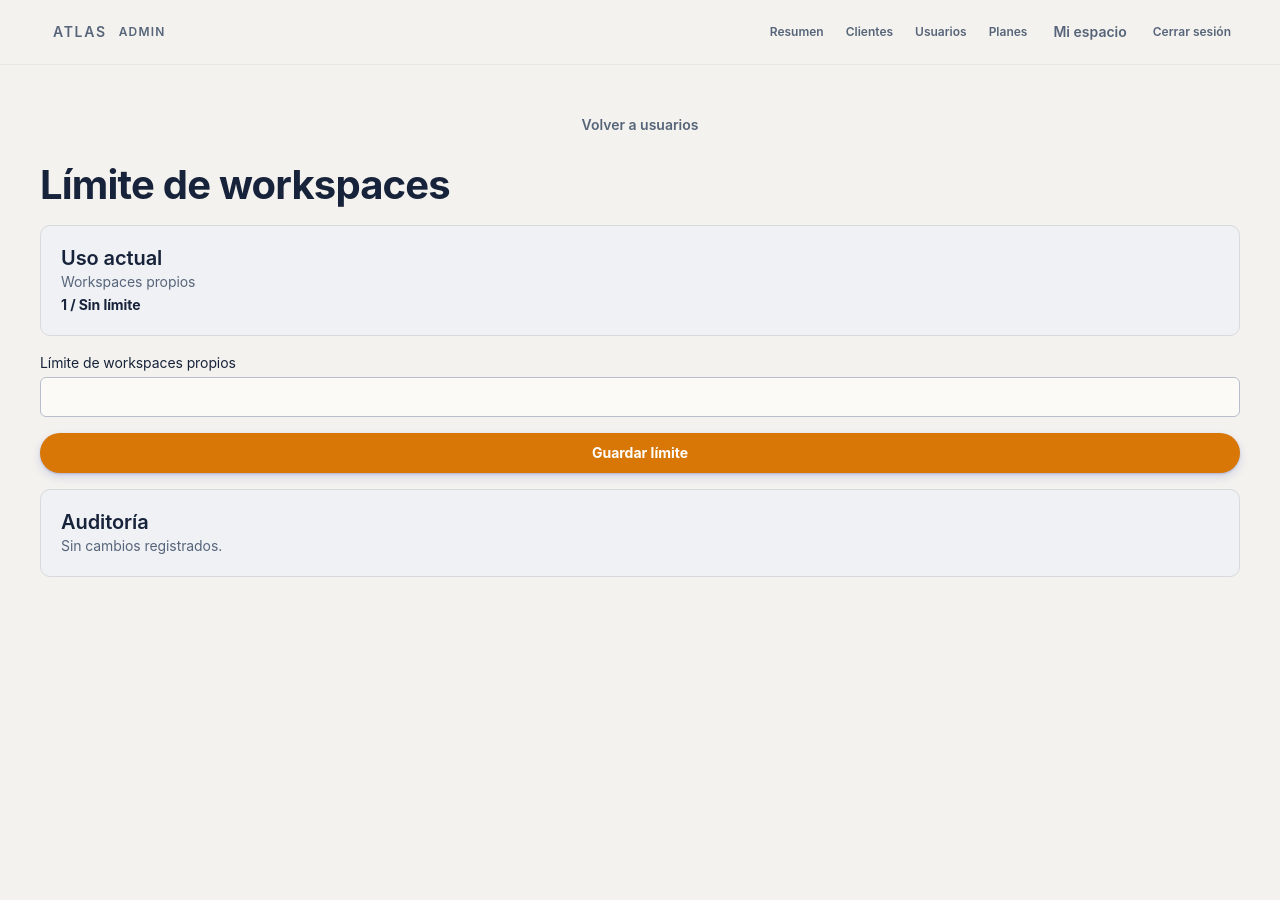
saves a versioned nullable owned-workspace allowance
Expected: the heading "Límite de workspaces" is shown, [40, 160, 450, 209]
Expected: the text "1 / Sin límite" is shown, [61, 296, 140, 313]
Type "2" into the number field labelled "Límite de workspaces propios" at point(640, 397), box [40, 377, 1240, 417]
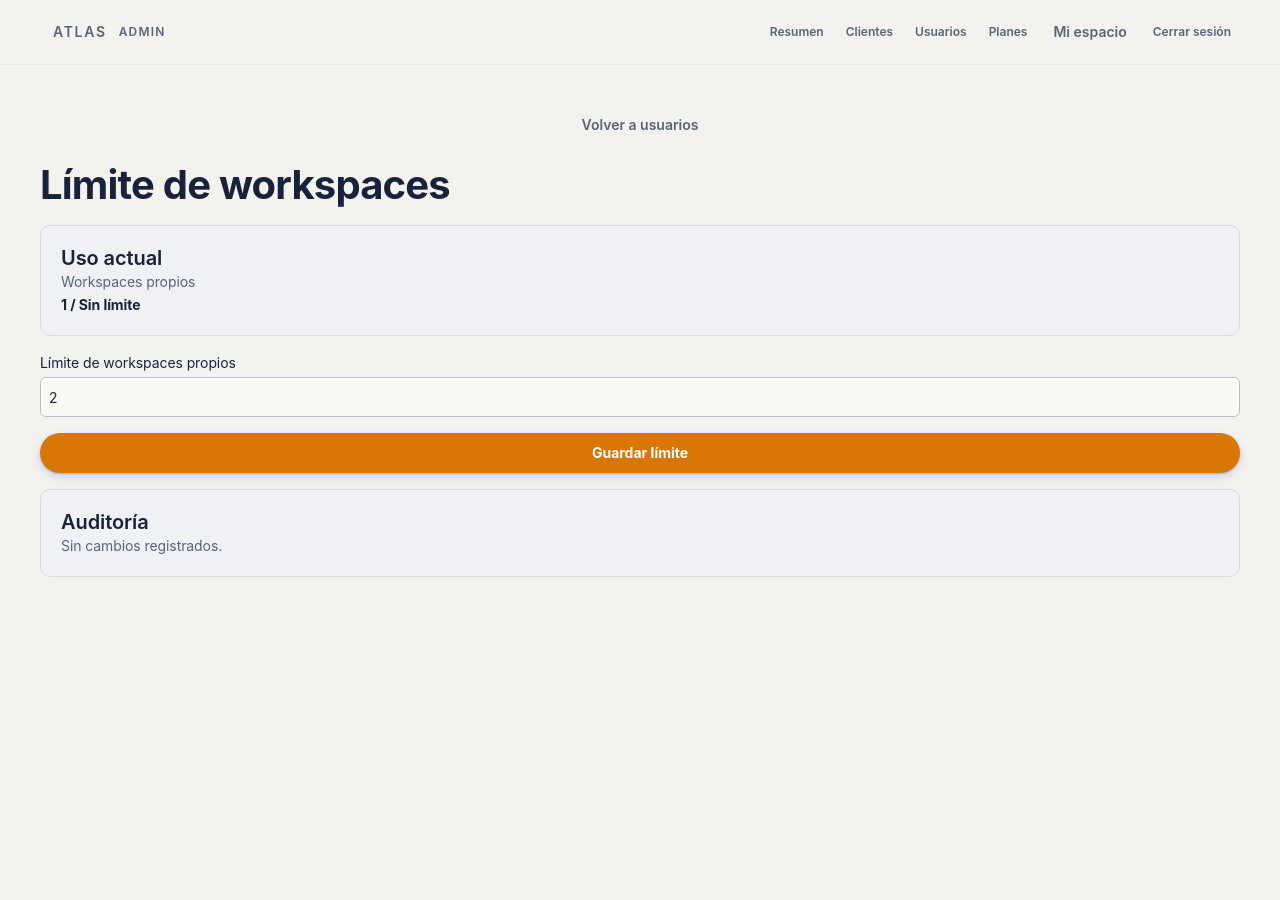
Click the button "Guardar límite" at point(640, 453), box [40, 433, 1240, 473]
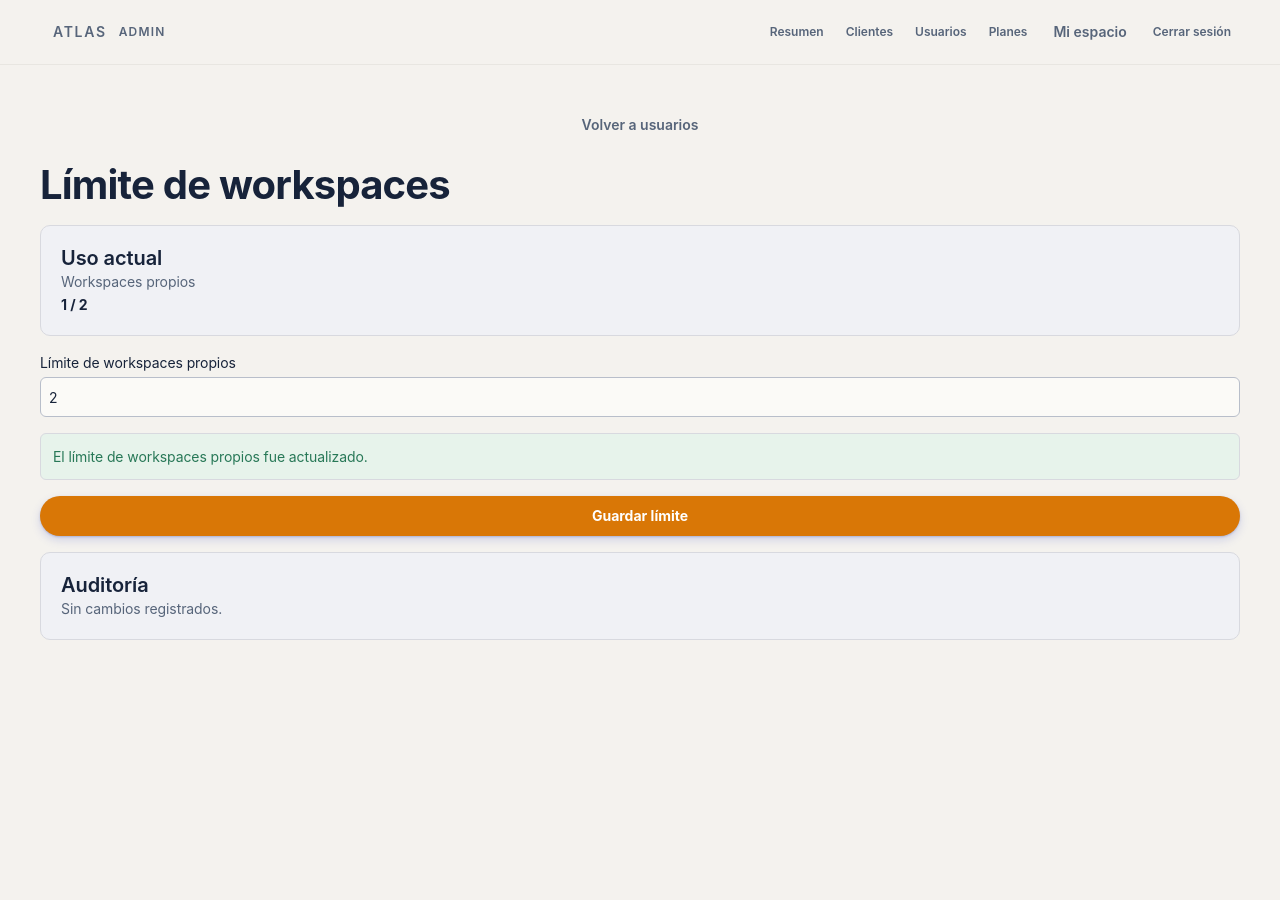
Now the text "El límite de workspaces propios fue actualizado." is shown, box [40, 433, 1240, 480]
